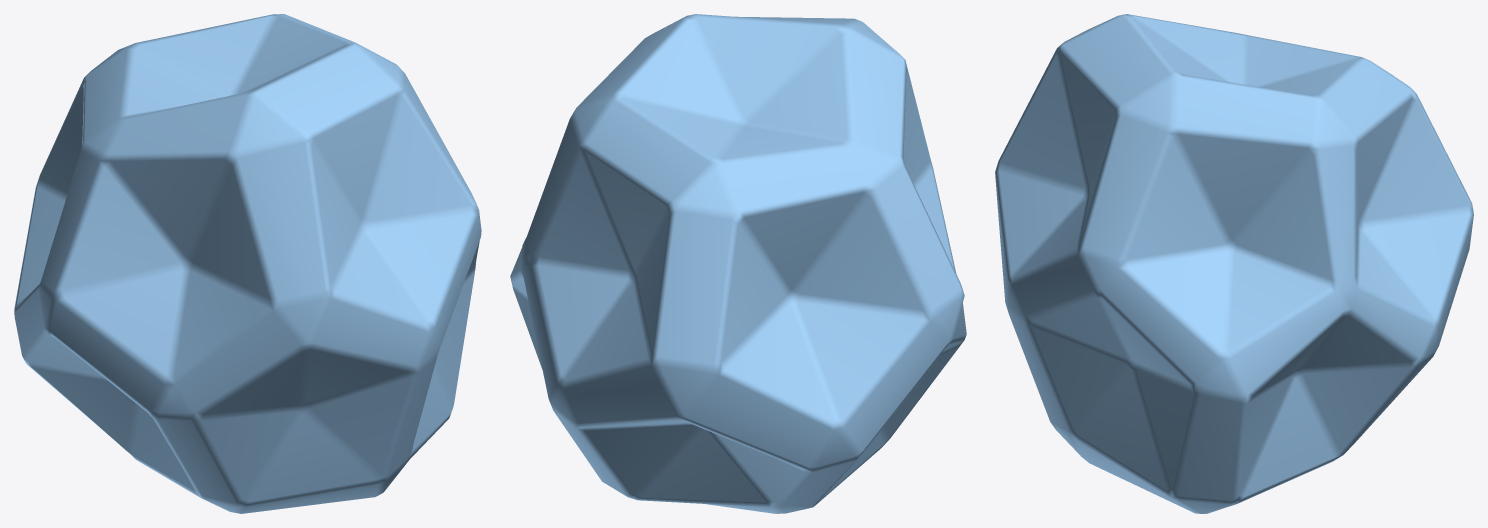
File: obj_resource_chromium.fbx
3 views of the same model, side by side, from view 1: azimuth 30°, elevation 25°; view 2: azimuth 150°, elevation 25°; view 3: azimuth 270°, elevation 25° (orthographic). The views are drawn at different scales.
Visible parts, largest first — view 1: Icosphere.002; view 2: Icosphere.002; view 3: Icosphere.002.
Part boxes in pixels (x1,y1,x2,y2): Icosphere.002: (14, 14, 481, 513); Icosphere.002: (510, 14, 966, 513); Icosphere.002: (995, 14, 1473, 513).
Bounding box in the file's own units: 1.98 × 1.91 × 2.01.
